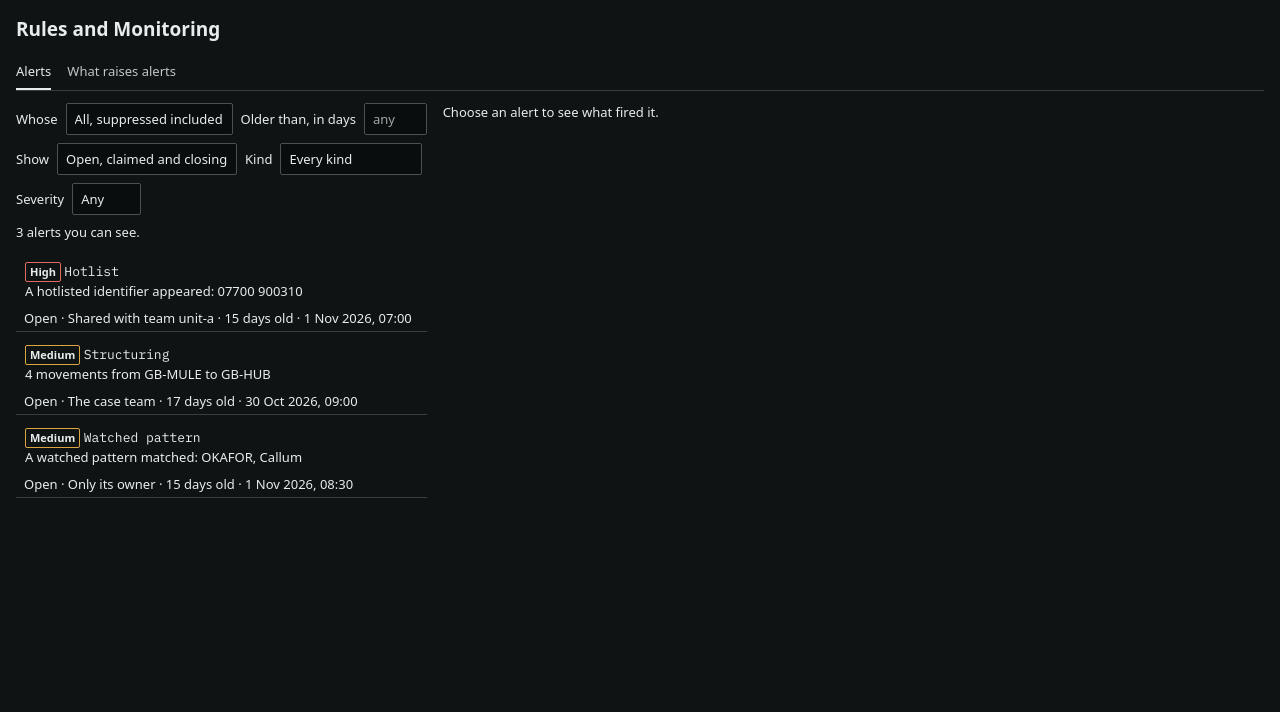
Rules and Monitoring › is one queue: the inbox is gone, and the hotlists and watched patterns are kept with the rules
What coordinates should you click on to do the following:
click the tab "What raises alerts"
I would click on:
 (122, 72)
Its box is [67,54,176,90].
(page scrolled)
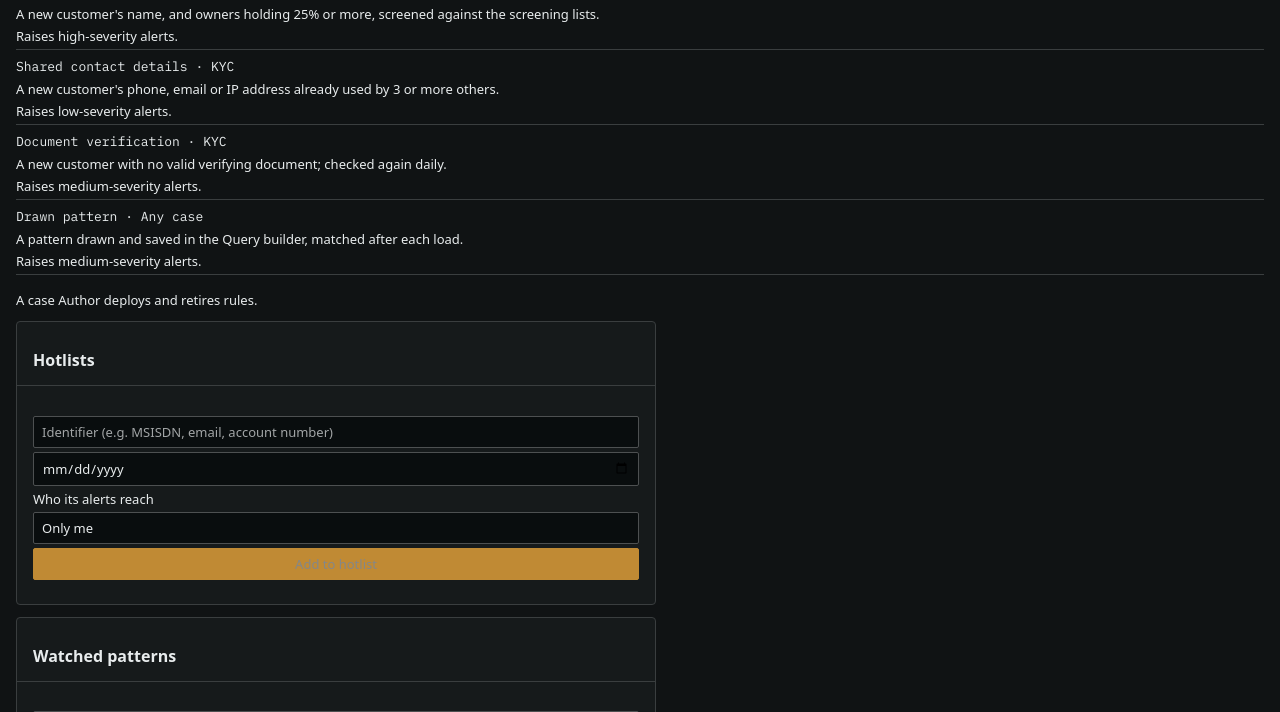
Now the heading "Hotlists" is shown, box [17,335,655,386]
